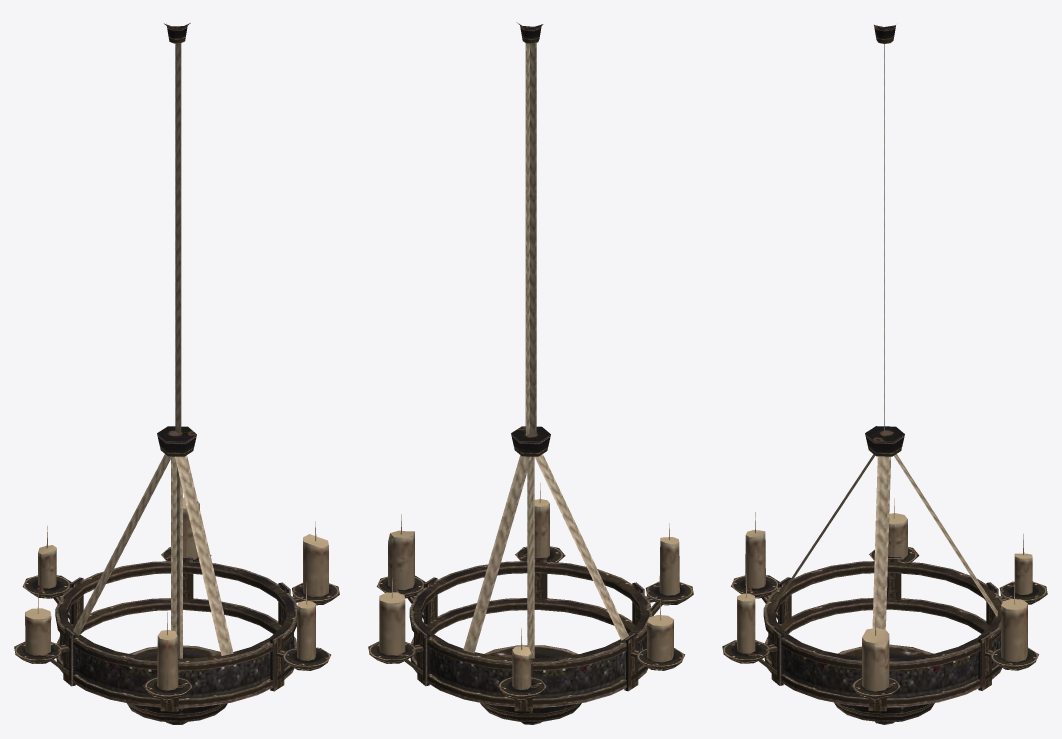
File: o_mdl_env_propCandleCeilingB-transformed.glb
3 renders of one model, left to right at view 1: azimuth 30°, elevation 25°; view 2: azimuth 150°, elevation 25°; view 3: azimuth 270°, elevation 25°, orthographic.
Visible parts, largest first — view 1: default; view 2: default; view 3: default.
Part boxes in pixels (<box>): default: <box>14,23,339,724</box>; default: <box>368,22,693,724</box>; default: <box>722,25,1047,724</box>.
Size of the model in its own units: 2.56 by 5.48 by 2.31.
Materials: 2 (2 with a texture image).
